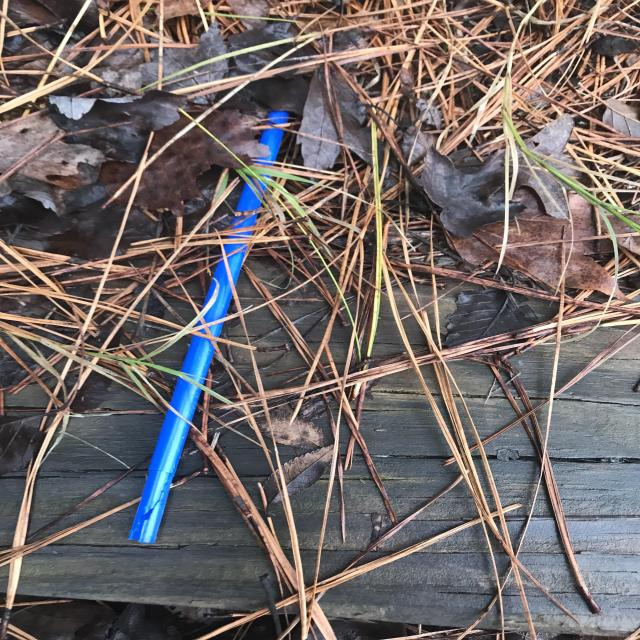litter: (123, 109, 292, 544)
